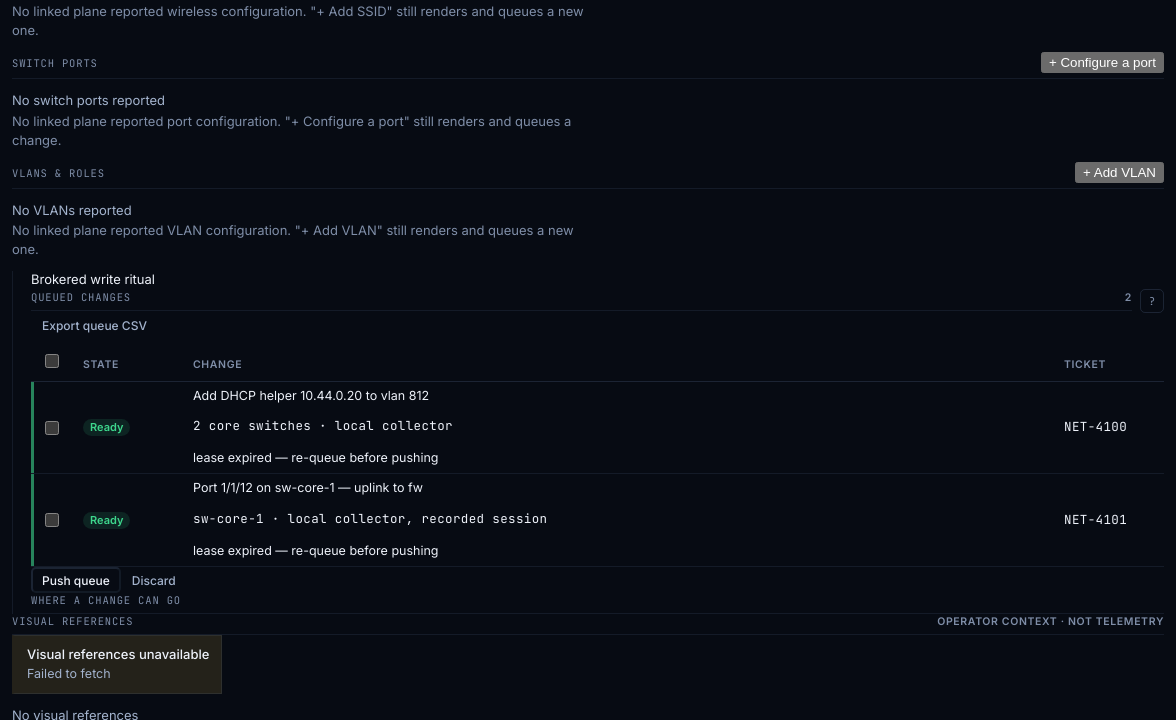
it: Configure — the change-queue bulk action bar › (c) a per-item push failure is named in the summary and its row stays listed
This screenshot has width=1176, height=720.
(page scrolled)
Expected: the text "NET-4101" is shown, [1064,511,1127,528]
Click the checkbox named "Select all queued changes": [52, 361] box [44,354,60,368]
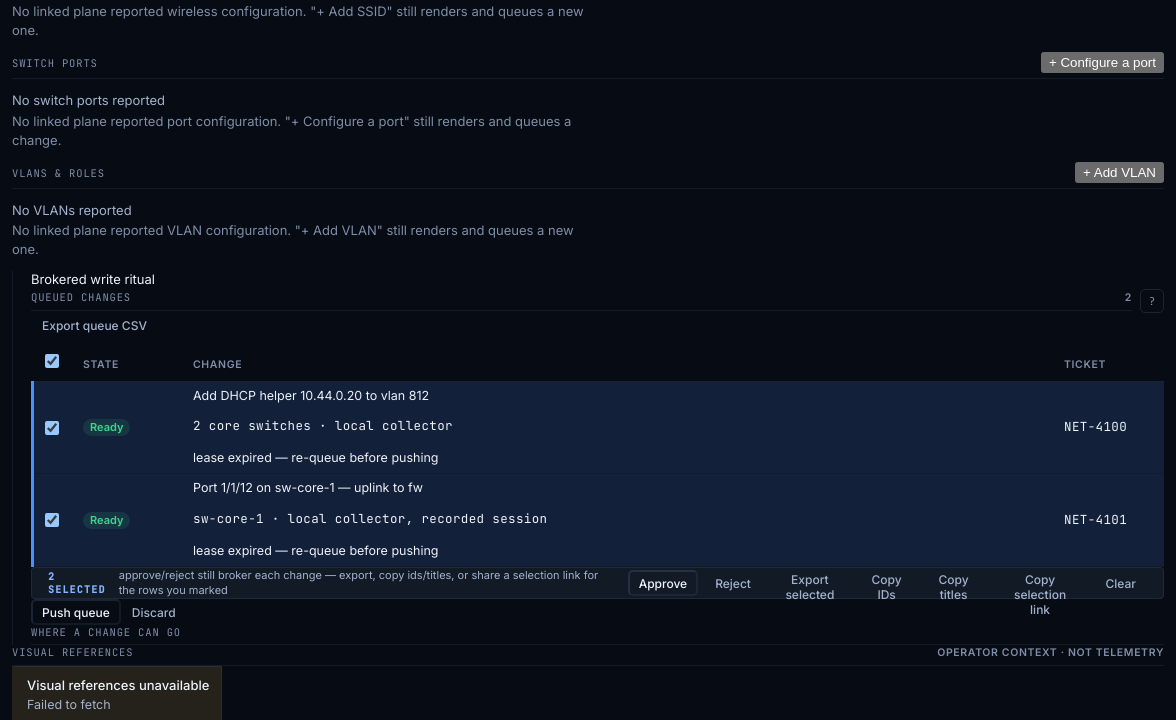
Click the button "Approve": [663, 583] box [628,570,698,596]
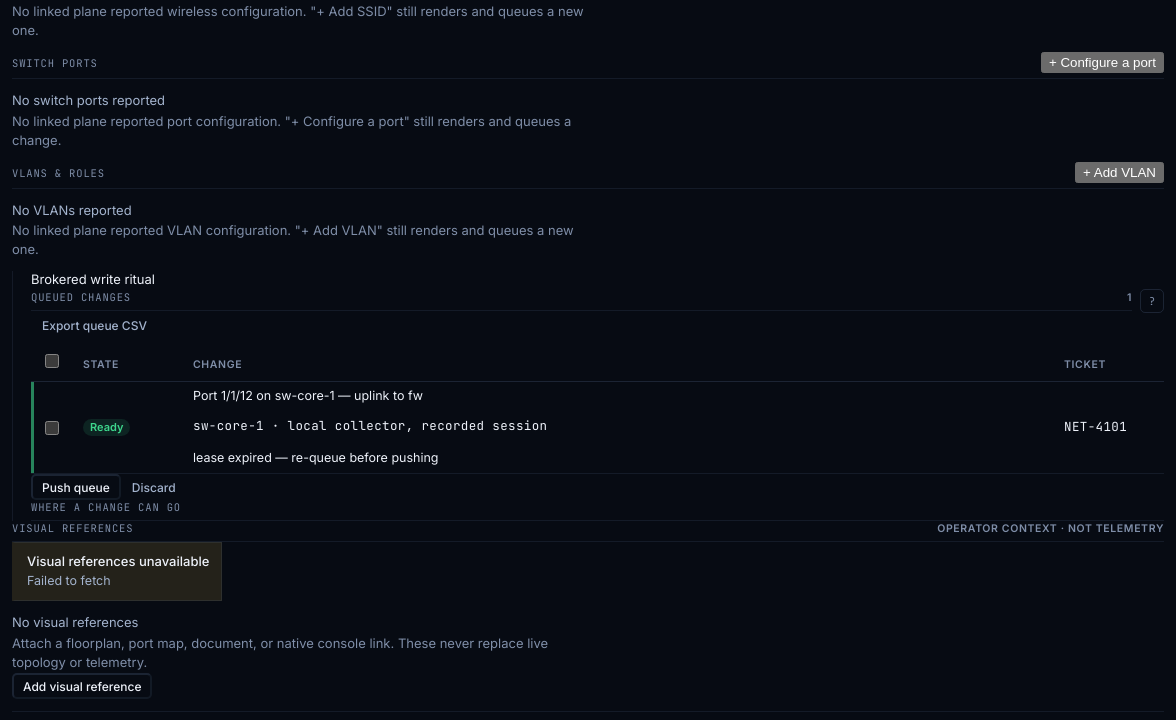
Expected: the text "NET-4101" is shown, [1064,418,1127,435]
Expected: the text "SELECTED" is gone
